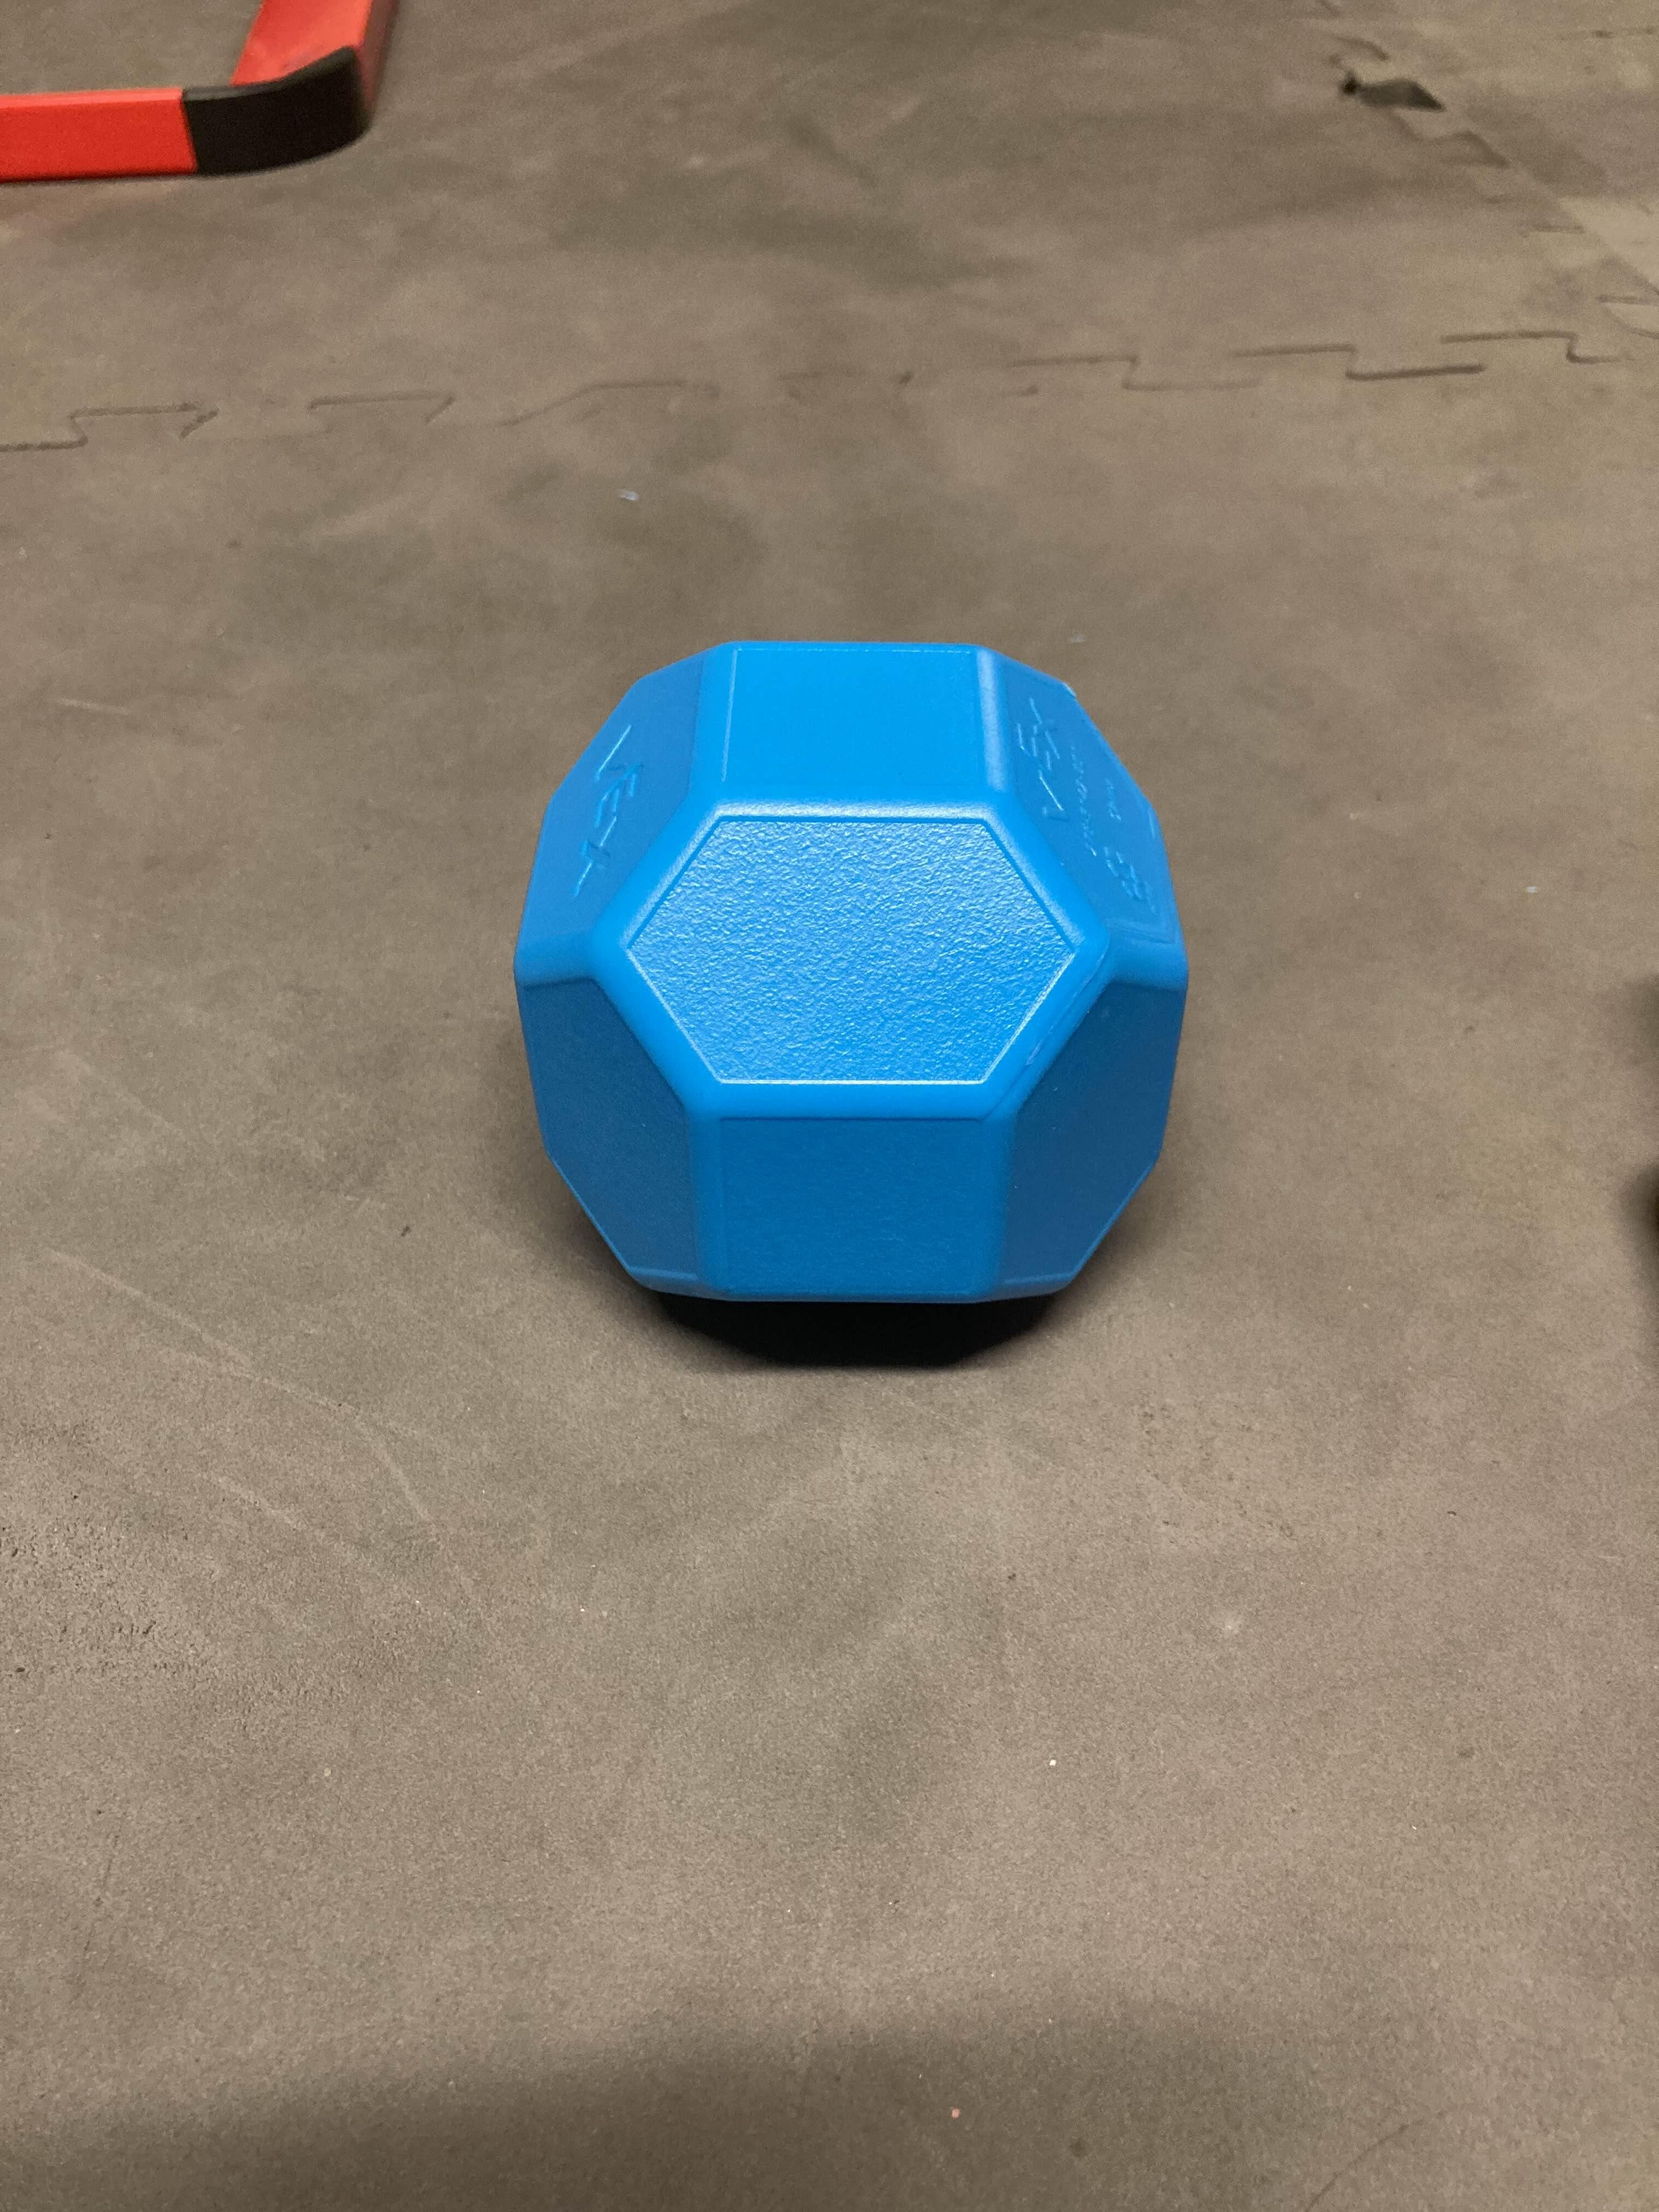Vex-Pieces-BLUE: (509, 639, 1192, 1324)
